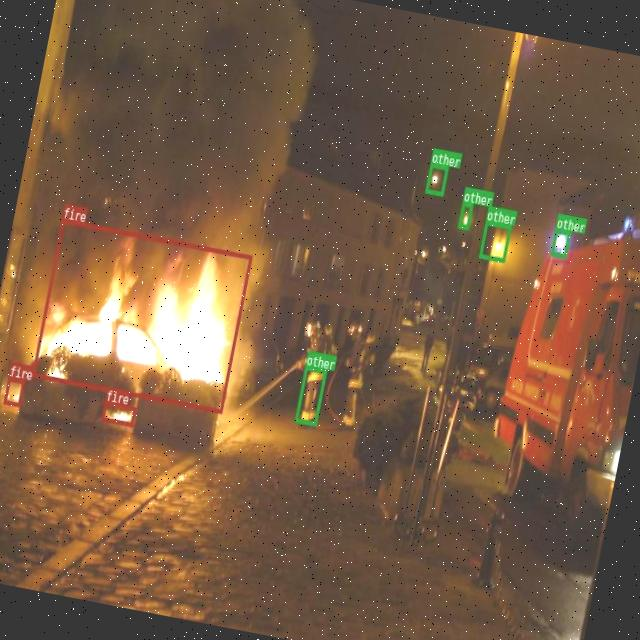fire: (31, 218, 252, 414), (101, 401, 136, 426), (3, 376, 25, 406)
